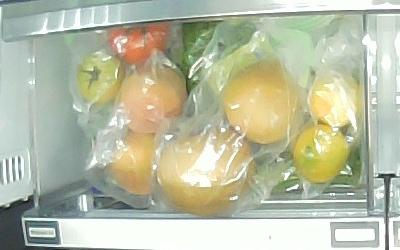peach_vinyl: (119, 73, 181, 135), (109, 132, 159, 194)
pear_vinyl: (160, 132, 256, 216), (221, 62, 299, 145)
tangerine_vinyl: (293, 124, 347, 184), (309, 74, 362, 129)
tomato_vinyl: (108, 21, 172, 62), (76, 51, 125, 104)
